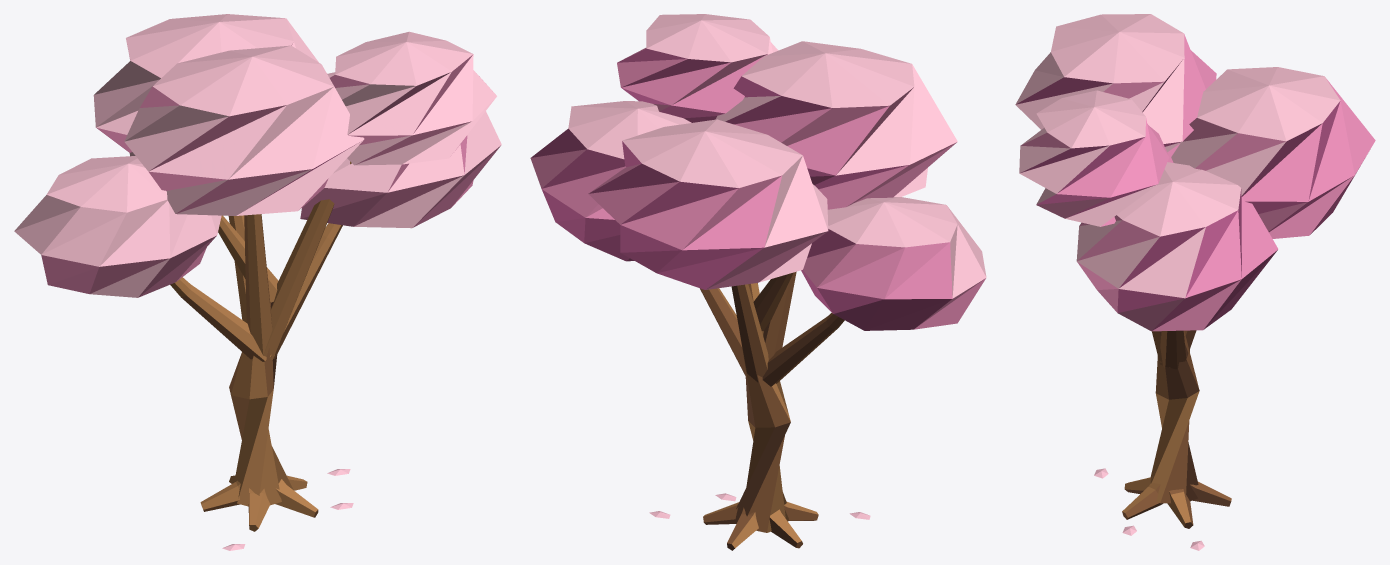
Rendered from ArvoreSakura.fbx.
The picture shows the model from 3 angles, left to right: view 1: azimuth 30°, elevation 25°; view 2: azimuth 150°, elevation 25°; view 3: azimuth 270°, elevation 25°; orthographic projection. The views are drawn at different scales.
Parts seen in each view (by area): view 1: ArvoreSakura_Folha_6, ArvoreSakura_Solido_3, ArvoreSakura_Folha_5, ArvoreSakura_Solido_2; view 2: ArvoreSakura_Folha_6, ArvoreSakura_Folha_5, ArvoreSakura_Folha_4, ArvoreSakura_Solido_2, ArvoreSakura_Solido_1, ArvoreSakura_Solido_3; view 3: ArvoreSakura_Folha_6, ArvoreSakura_Folha_5, ArvoreSakura_Folha_4, ArvoreSakura_Solido_3, ArvoreSakura_Solido_1, ArvoreSakura_Solido_2.
Part boxes in pixels (x1=…): ArvoreSakura_Folha_6: x1=14, y1=14, x2=501, y2=550; ArvoreSakura_Solido_3: x1=170, y1=161, x2=351, y2=531; ArvoreSakura_Folha_5: x1=41, y1=44, x2=500, y2=297; ArvoreSakura_Solido_2: x1=181, y1=163, x2=351, y2=525; ArvoreSakura_Folha_6: x1=568, y1=14, x2=986, y2=519; ArvoreSakura_Folha_5: x1=530, y1=48, x2=985, y2=329; ArvoreSakura_Folha_4: x1=531, y1=48, x2=951, y2=330; ArvoreSakura_Solido_2: x1=701, y1=271, x2=844, y2=548; ArvoreSakura_Solido_1: x1=700, y1=274, x2=842, y2=550; ArvoreSakura_Solido_3: x1=703, y1=283, x2=818, y2=548; ArvoreSakura_Folha_6: x1=1015, y1=14, x2=1340, y2=550; ArvoreSakura_Folha_5: x1=1020, y1=34, x2=1375, y2=331; ArvoreSakura_Folha_4: x1=1016, y1=61, x2=1360, y2=330; ArvoreSakura_Solido_3: x1=1122, y1=391, x2=1199, y2=527; ArvoreSakura_Solido_1: x1=1125, y1=330, x2=1231, y2=528; ArvoreSakura_Solido_2: x1=1122, y1=330, x2=1231, y2=524.
Size of the model in its own units: 1412 by 1414 by 1011.
